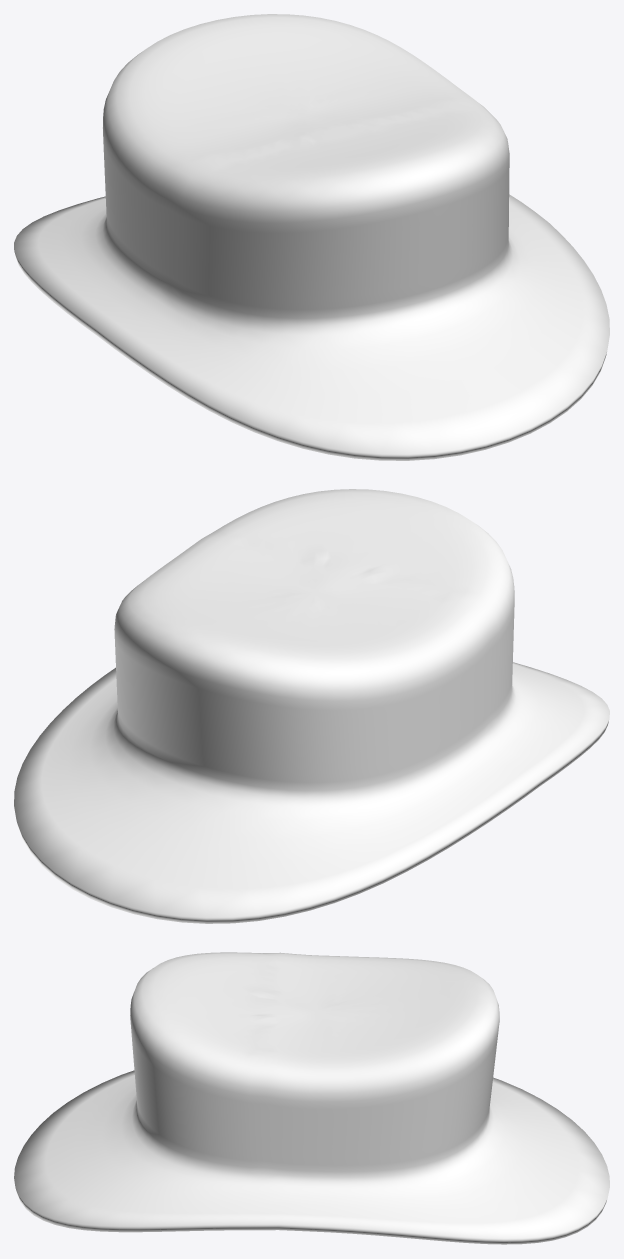
Rendered from hat.obj.
3 views of the same model, one above another, from view 1: azimuth 30°, elevation 25°; view 2: azimuth 150°, elevation 25°; view 3: azimuth 270°, elevation 25° (orthographic). The views are drawn at different scales.
Visible parts, largest first — view 1: Hat; view 2: Hat; view 3: Hat.
Boxes of the visible parts, x1,y1,x2,y2 form: Hat: (14,14,609,460); Hat: (14,489,609,923); Hat: (14,952,609,1244).
Bounding box in the file's own units: 4.97 × 2.5 × 6.82.
